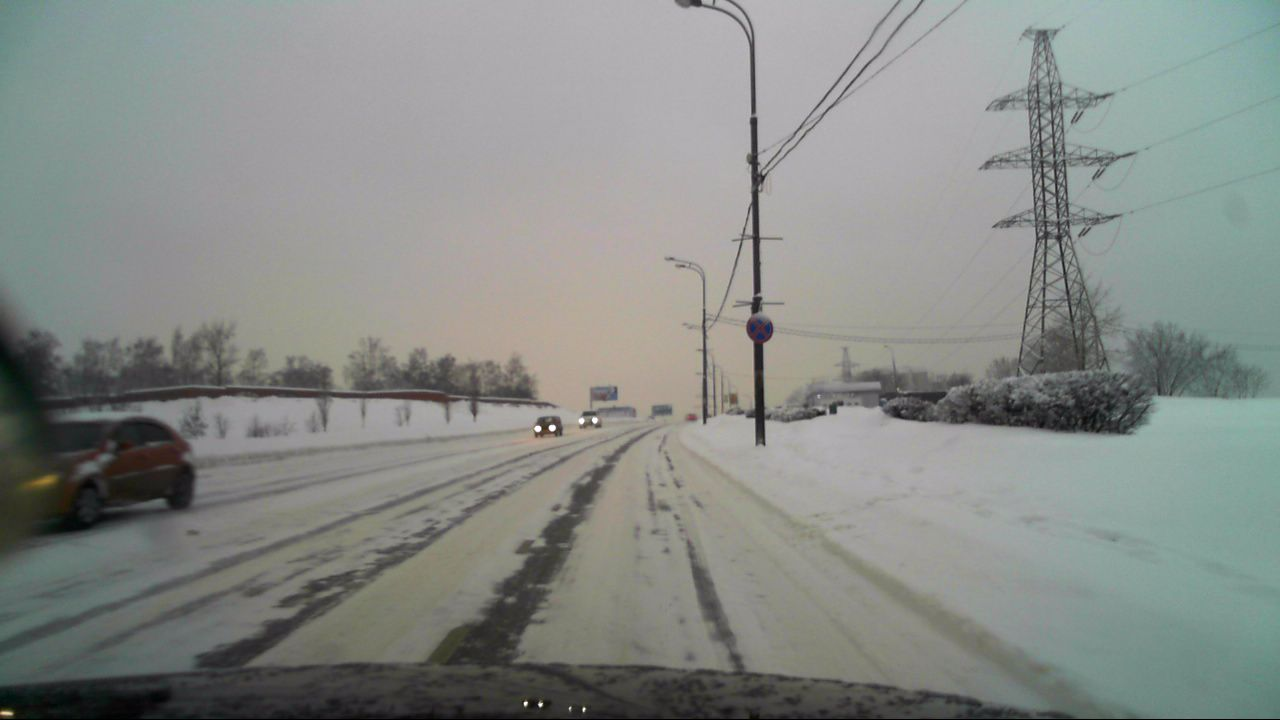No Parking: (746, 312, 778, 344)
